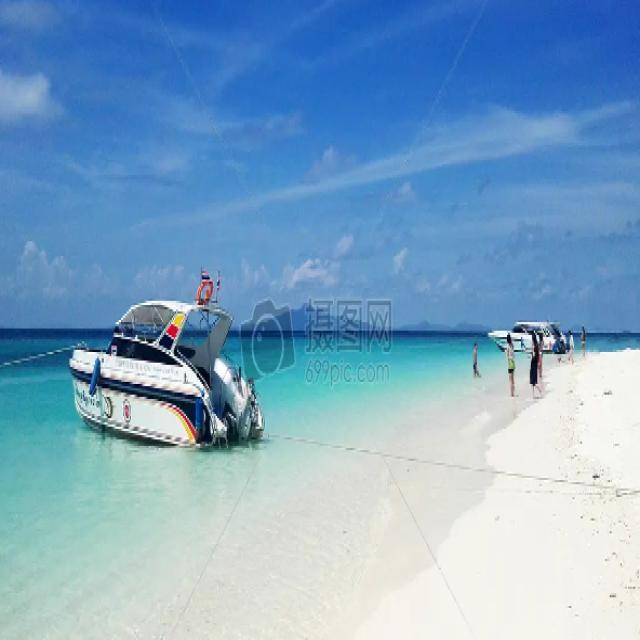houseboat: (68, 287, 266, 453), (484, 306, 574, 360)
